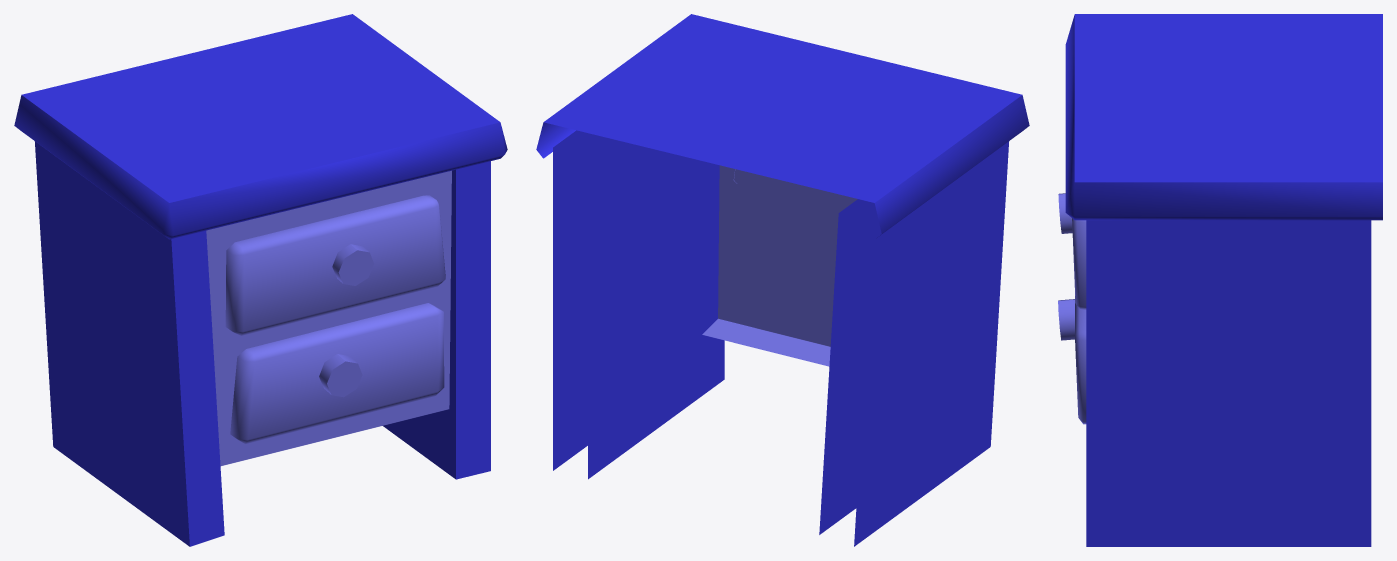
File: bedsideTable.fbx
3 views of the same model, side by side, from view 1: azimuth 30°, elevation 25°; view 2: azimuth 150°, elevation 25°; view 3: azimuth 270°, elevation 25° (orthographic). The views are drawn at different scales.
Visible parts, largest first — view 1: bedsideTable; view 2: bedsideTable; view 3: bedsideTable.
Part boxes in pixels (x1=…): bedsideTable: x1=14, y1=14, x2=507, y2=546; bedsideTable: x1=536, y1=14, x2=1029, y2=546; bedsideTable: x1=1058, y1=14, x2=1382, y2=546.
Size of the model in its own units: 1.74 by 1.7 by 1.36.
